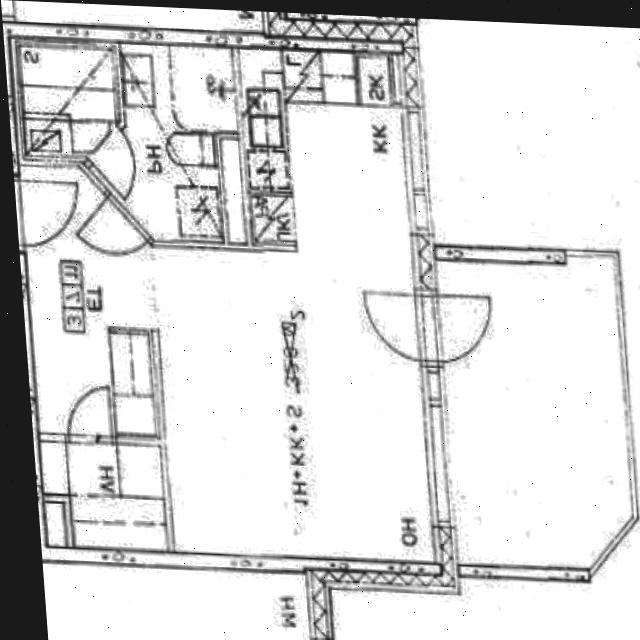room: (82, 43, 255, 244), (33, 440, 171, 552), (15, 36, 121, 164)
